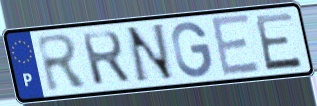E: (207, 12, 263, 80), (252, 10, 305, 73)
G: (169, 20, 214, 80)
N: (124, 22, 178, 87)
R: (34, 32, 91, 95), (79, 29, 133, 87)
